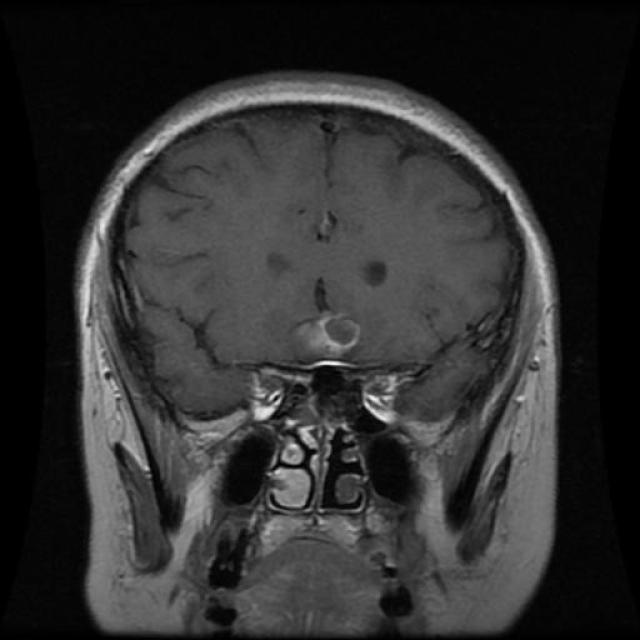brain_tumor: (321, 315, 362, 356)
